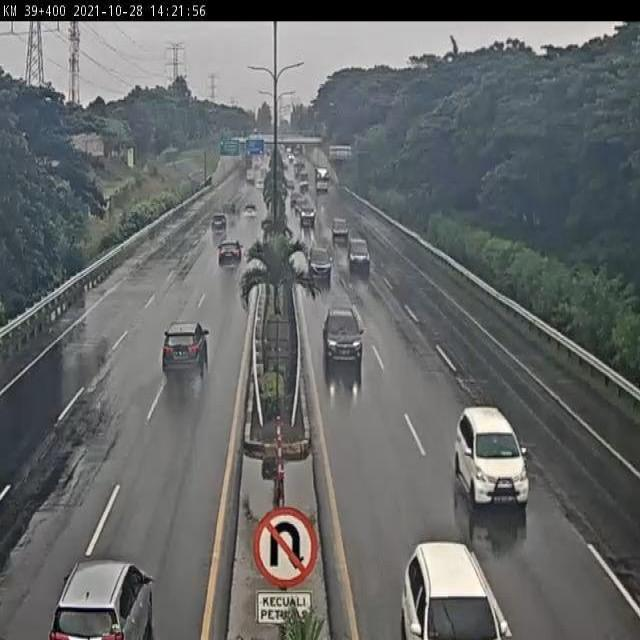car: (452, 407, 531, 509), (157, 322, 210, 378), (322, 306, 364, 370), (305, 245, 335, 280), (214, 240, 242, 275), (349, 238, 372, 274)
